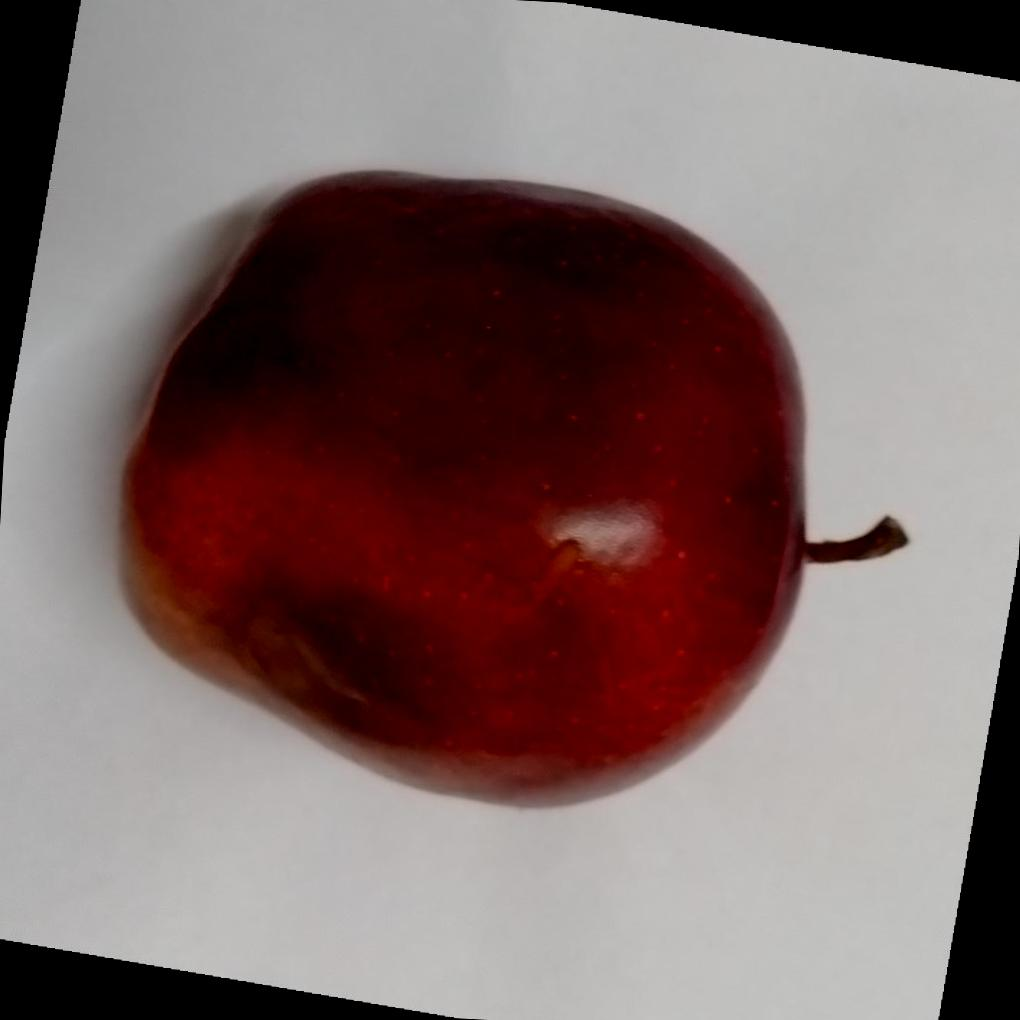FreshOrange: (111, 166, 905, 810)
